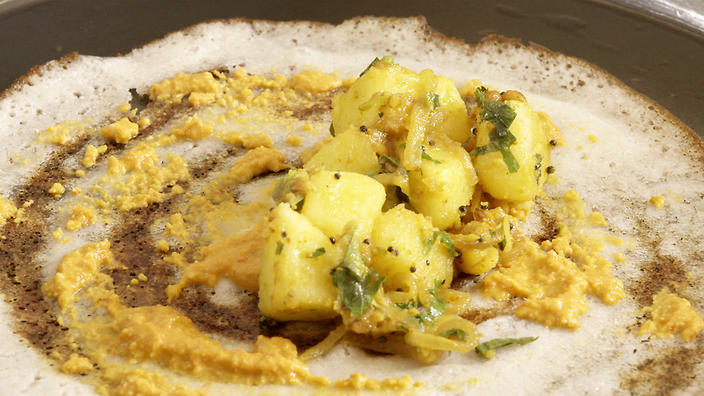dosa: (2, 11, 702, 396)
